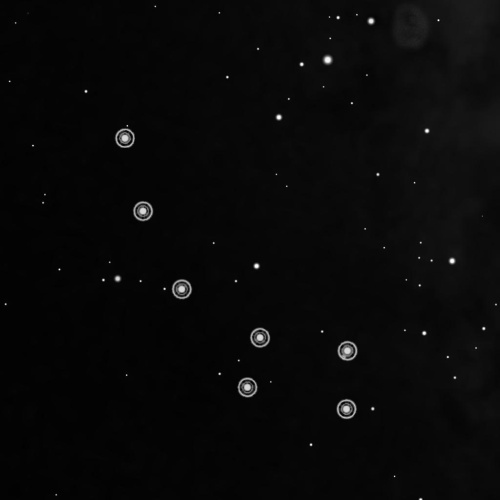ursa_minor: (109, 121, 361, 425)
